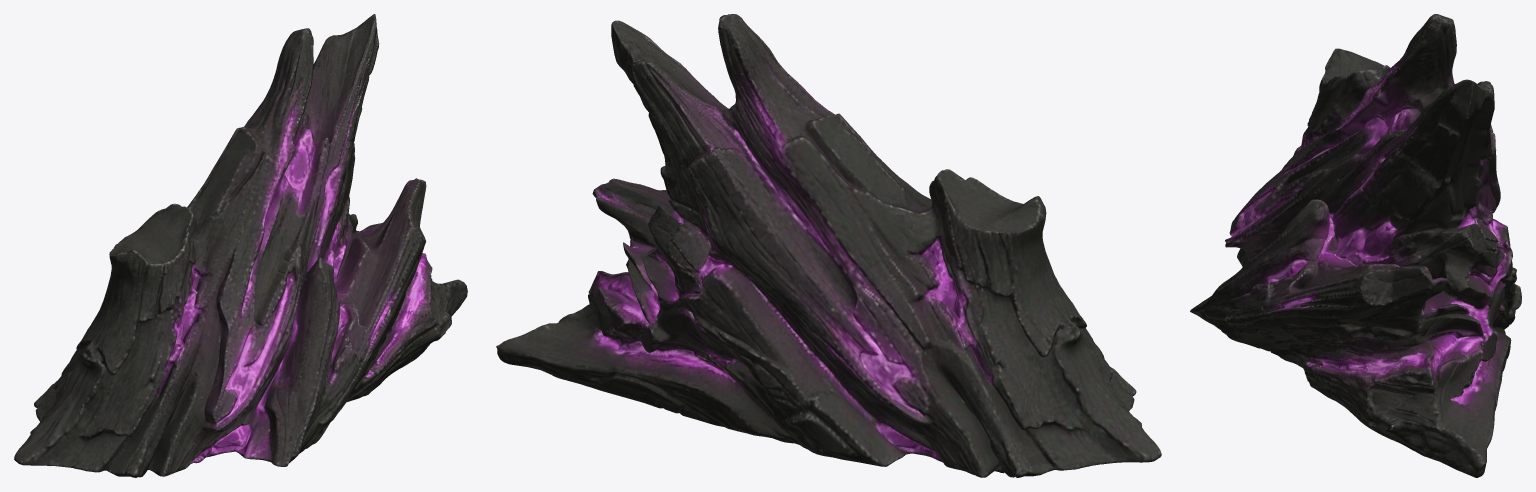
Rendered from glade-rock.glb.
3 views of the same model, side by side, from view 1: azimuth 30°, elevation 25°; view 2: azimuth 150°, elevation 25°; view 3: azimuth 270°, elevation 25° (orthographic). The views are drawn at different scales.
Parts seen in each view (by area): view 1: tripo_node_f5dcc90d-39fa-421c-9114-c763cabc4d19; view 2: tripo_node_f5dcc90d-39fa-421c-9114-c763cabc4d19; view 3: tripo_node_f5dcc90d-39fa-421c-9114-c763cabc4d19.
Boxes of the visible parts, box(x1,y1,x2,y2) form: tripo_node_f5dcc90d-39fa-421c-9114-c763cabc4d19: box(14, 14, 467, 477); tripo_node_f5dcc90d-39fa-421c-9114-c763cabc4d19: box(496, 14, 1161, 477); tripo_node_f5dcc90d-39fa-421c-9114-c763cabc4d19: box(1190, 14, 1521, 477).
Bounding box in the file's own units: 0.9822 × 0.6088 × 0.4948.
1 material, 1 textured.
